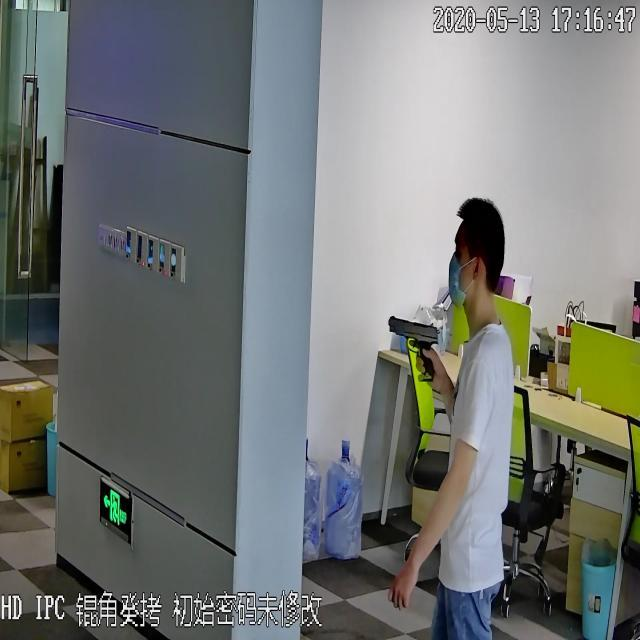gun: (386, 307, 440, 386)
